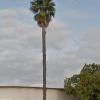Palm tree: (27, 1, 64, 90)
